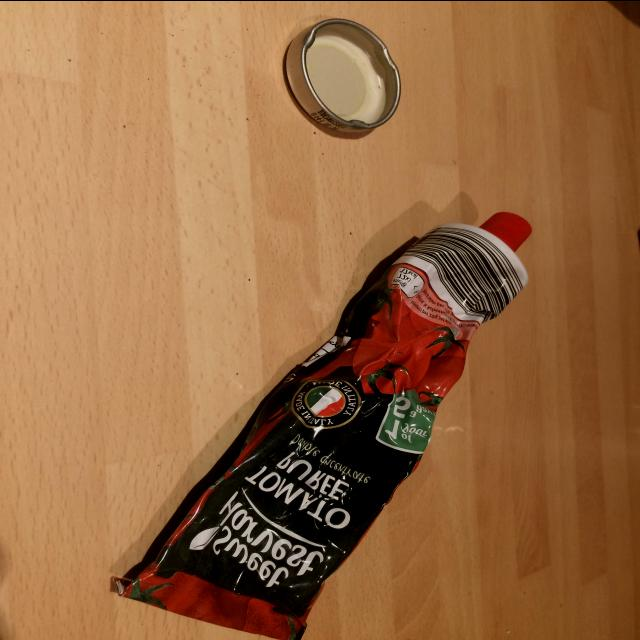Metal bottle cap: (286, 17, 401, 132)
Squeezable tube: (113, 211, 532, 640)
